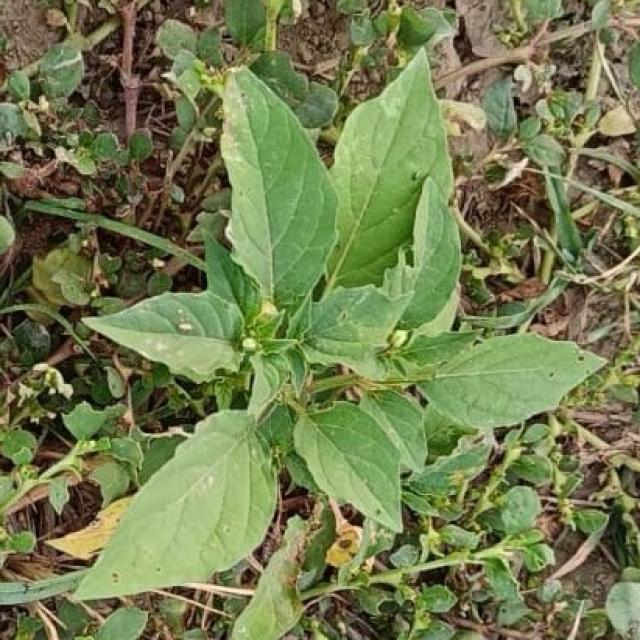weed: (76, 49, 604, 600)
